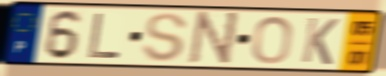6: (44, 9, 84, 62)
K: (299, 16, 342, 67)
L: (86, 11, 123, 60)
N: (185, 10, 242, 68)
O: (250, 15, 295, 66)
S: (140, 11, 190, 64)
